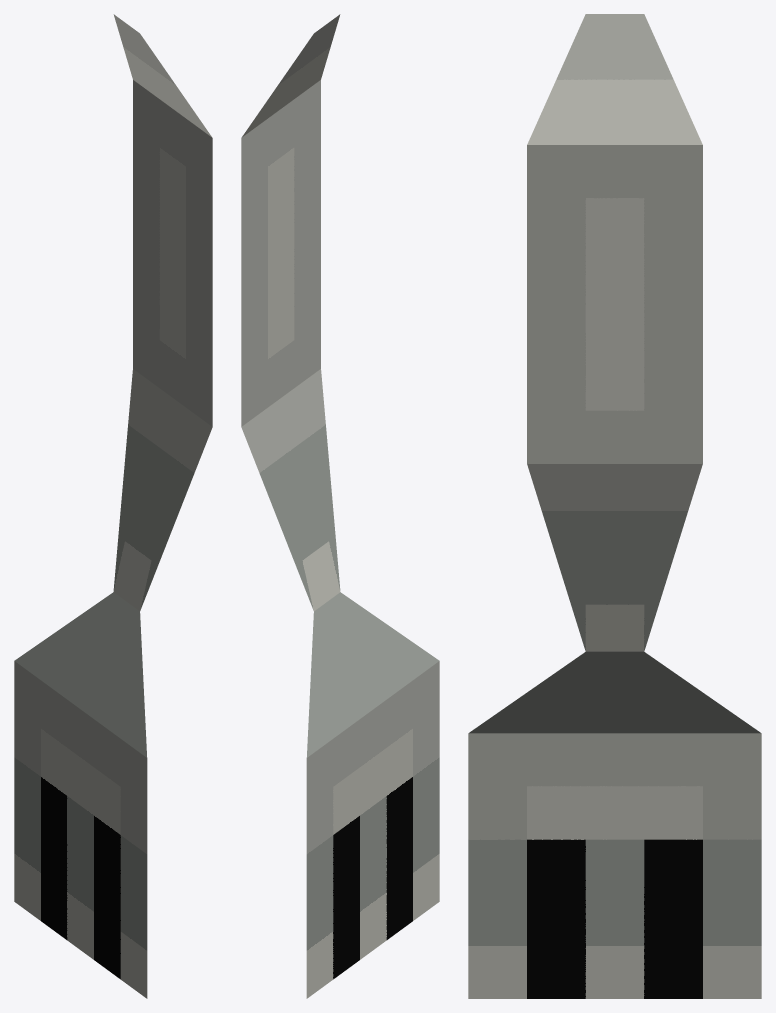
The model's file is fork.fbx.
The picture shows the model from 3 angles, left to right: view 1: azimuth 30°, elevation 25°; view 2: azimuth 150°, elevation 25°; view 3: azimuth 270°, elevation 25°; orthographic projection. The views are drawn at different scales.
Visible parts, largest first — view 1: Fork; view 2: Fork; view 3: Fork.
Part boxes in pixels (x1,y1,x2,y2): Fork: (14, 14, 212, 998); Fork: (241, 14, 439, 998); Fork: (468, 14, 761, 998).
Size of the model in its own units: 6.25 by 59.37 by 15.63.
Materials: 1 (1 with a texture image).
